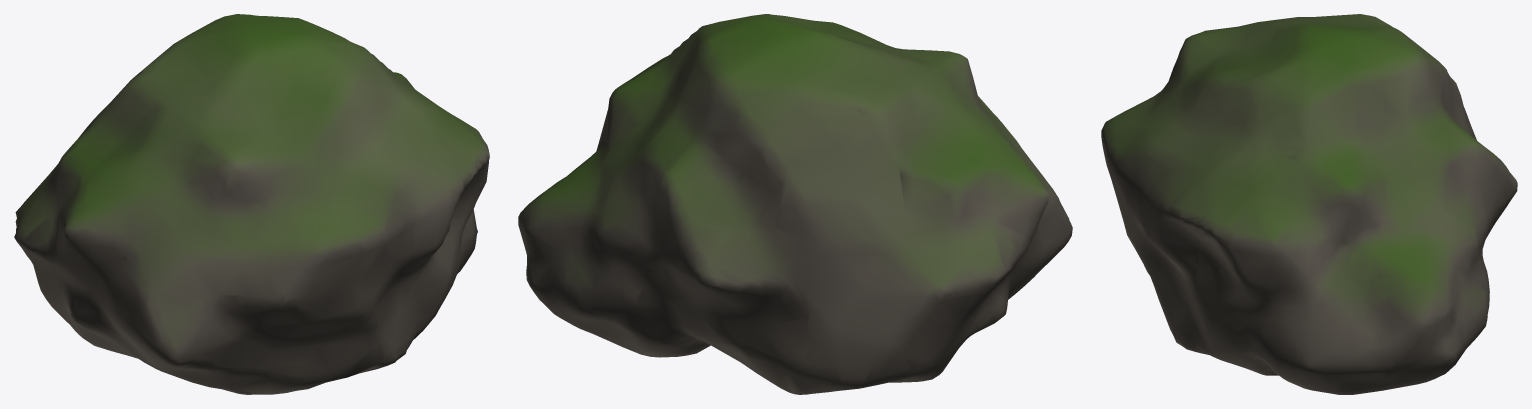
File: rock.glb
3 renders of one model, left to right at view 1: azimuth 30°, elevation 25°; view 2: azimuth 150°, elevation 25°; view 3: azimuth 270°, elevation 25°, orthographic. The views are drawn at different scales.
Visible parts, largest first — view 1: rock; view 2: rock; view 3: rock.
Part boxes in pixels (bbox=[...]): rock: bbox=[14, 14, 489, 394]; rock: bbox=[518, 14, 1072, 394]; rock: bbox=[1101, 14, 1517, 394].
Bounding box in the file's own units: 1.49 × 0.9576 × 1.25.
